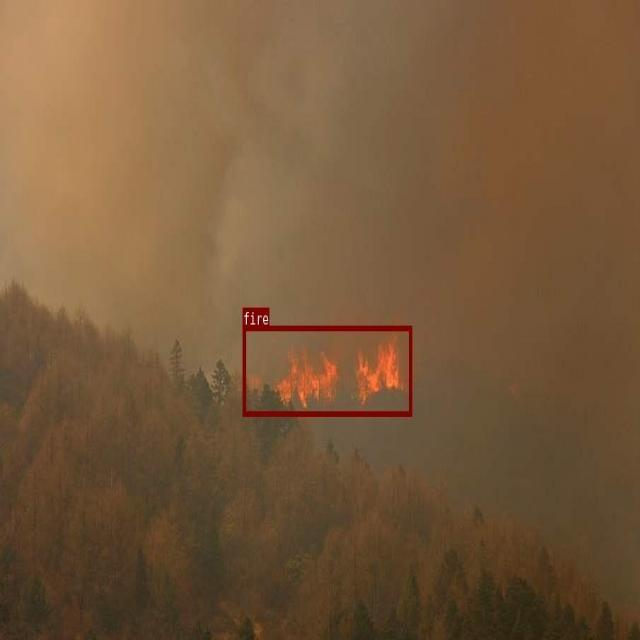fire: (243, 325, 412, 415)
